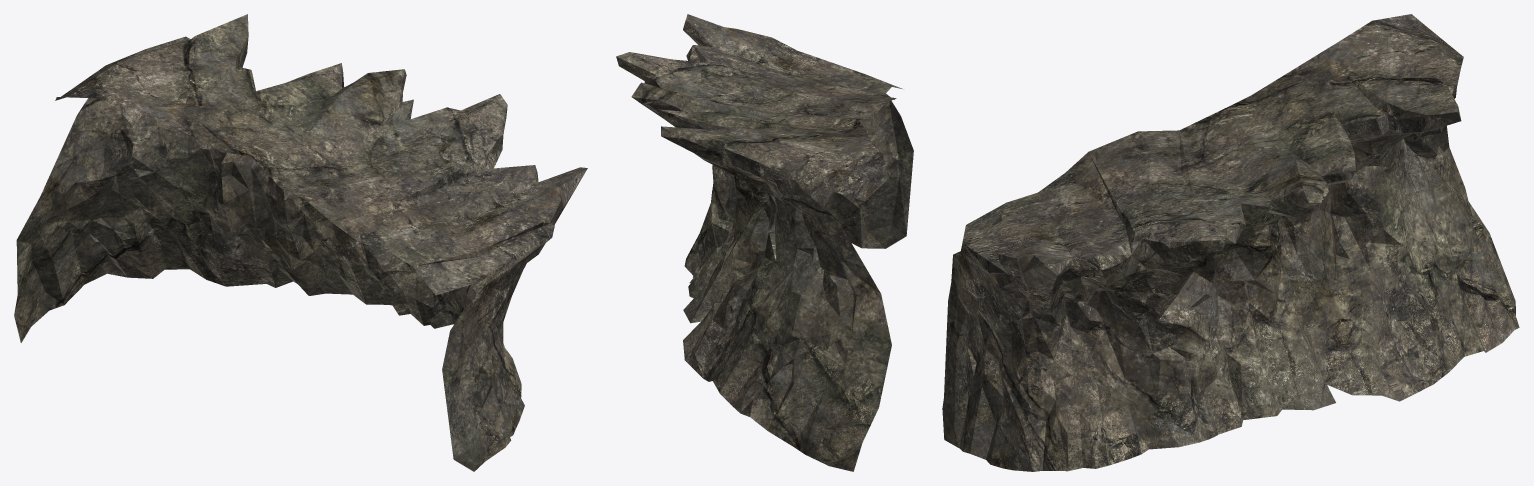
The model's file is RockWall3.fbx.
The picture shows the model from 3 angles, left to right: view 1: azimuth 30°, elevation 25°; view 2: azimuth 150°, elevation 25°; view 3: azimuth 270°, elevation 25°; orthographic projection. The views are drawn at different scales.
Parts seen in each view (by area): view 1: LV_NSaltus_Rock_CrystalRock02_SM_KBE; view 2: LV_NSaltus_Rock_CrystalRock02_SM_KBE; view 3: LV_NSaltus_Rock_CrystalRock02_SM_KBE.
Boxes of the visible parts, box(x1,y1,x2,y2) form: LV_NSaltus_Rock_CrystalRock02_SM_KBE: box(14, 14, 587, 471); LV_NSaltus_Rock_CrystalRock02_SM_KBE: box(616, 14, 913, 471); LV_NSaltus_Rock_CrystalRock02_SM_KBE: box(942, 14, 1519, 471).
Size of the model in its own units: 15.19 by 10.84 by 17.27.
Materials: 1 (1 with a texture image).
